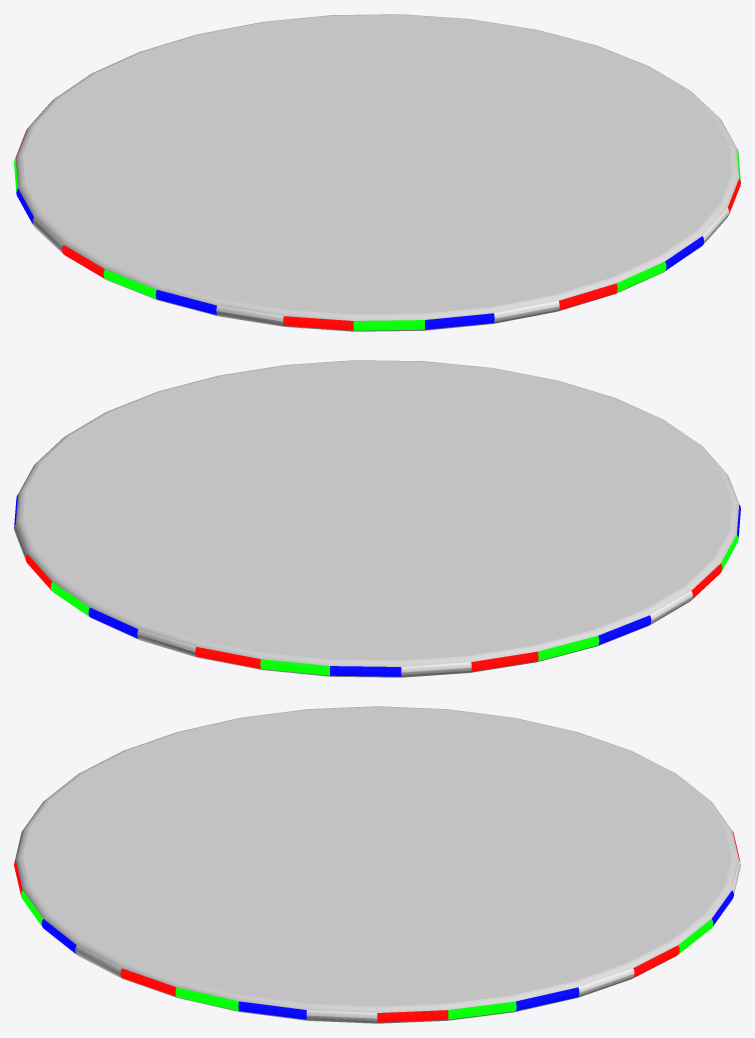
File: AutoLazySuzan.fbx
3 renders of one model, top to bottom at view 1: azimuth 30°, elevation 25°; view 2: azimuth 150°, elevation 25°; view 3: azimuth 270°, elevation 25°, orthographic.
Visible parts, largest first — view 1: TableArea; view 2: TableArea; view 3: TableArea.
Boxes of the visible parts, x1,y1,x2,y2 form: TableArea: (14, 14, 740, 331); TableArea: (14, 360, 740, 677); TableArea: (14, 706, 740, 1023).
Bounding box in the file's own units: 400 × 40.2 × 400.
